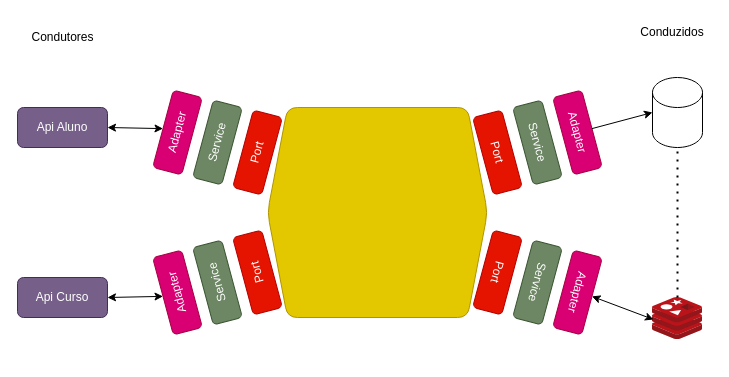
The diagram is 729 pixels wide and 377 high, and some of its shapes have lost their labels. Here are the shapes that lost their labels. From the top down, the box of each, then its label:
(652, 76, 702, 148): MySql
(266, 106, 488, 318): Core
(652, 297, 702, 339): Redis Cache
